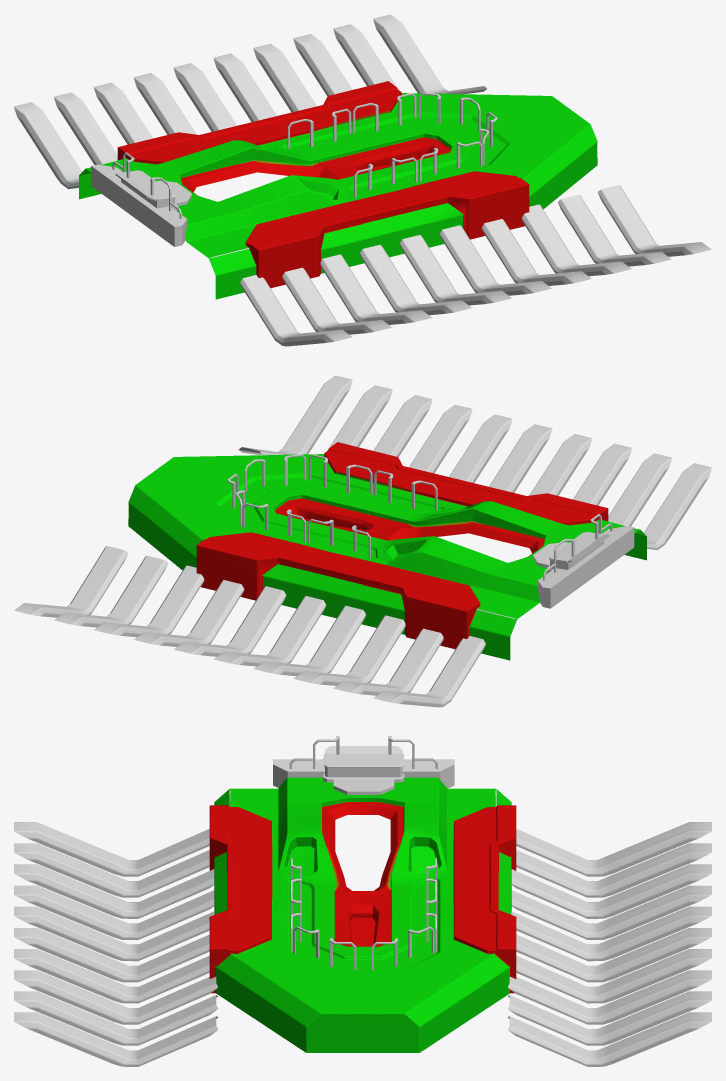
Rendered from middleSection.fbx.
3 renders of one model, top to bottom at view 1: azimuth 30°, elevation 25°; view 2: azimuth 150°, elevation 25°; view 3: azimuth 270°, elevation 25°, orthographic. The views are drawn at different scales.
Visible parts, largest first — view 1: middleSectionSecondary, Cube.001, Cube.008; view 2: middleSectionSecondary, Cube.001, Cube.008; view 3: middleSectionSecondary, Cube.001, Cube.008, Cube.005.
Part boxes in pixels (x1=…): middleSectionSecondary: x1=14, y1=14, x2=711, y2=346; Cube.001: x1=91, y1=164, x2=191, y2=246; Cube.008: x1=287, y1=92, x2=497, y2=197; middleSectionSecondary: x1=14, y1=375, x2=711, y2=707; Cube.001: x1=533, y1=526, x2=634, y2=608; Cube.008: x1=227, y1=454, x2=437, y2=558; middleSectionSecondary: x1=14, y1=777, x2=711, y2=1066; Cube.001: x1=273, y1=746, x2=454, y2=794; Cube.008: x1=290, y1=858, x2=436, y2=970; Cube.005: x1=289, y1=736, x2=437, y2=768.
Bounding box in the file's own units: 2006 × 447 × 2539.
